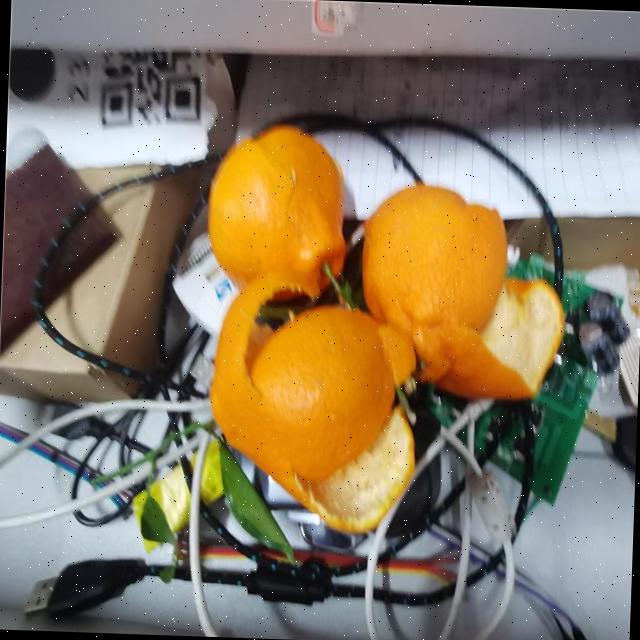orange-peel: (192, 118, 571, 538)
